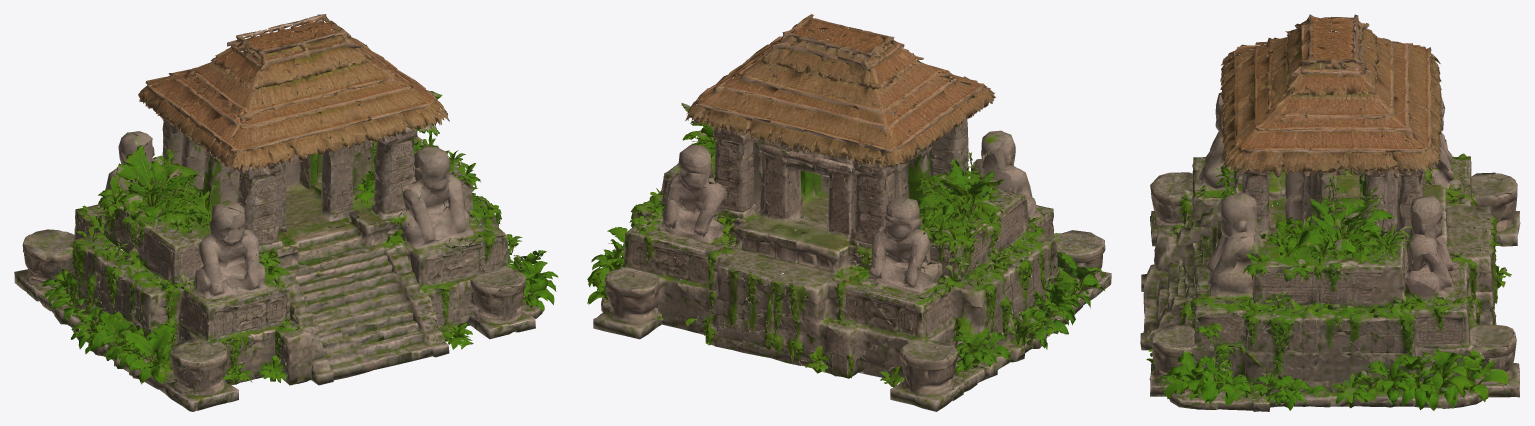
File: templo.glb
3 views of the same model, side by side, from view 1: azimuth 30°, elevation 25°; view 2: azimuth 150°, elevation 25°; view 3: azimuth 270°, elevation 25° (orthographic). The views are drawn at different scales.
Parts seen in each view (by area): view 1: Mesh_0; view 2: Mesh_0; view 3: Mesh_0.
Part boxes in pixels (left/top/right/bottom): Mesh_0: left=14, top=14, right=558, bottom=411; Mesh_0: left=587, top=14, right=1111, bottom=411; Mesh_0: left=1140, top=14, right=1520, bottom=411.
Size of the model in its own units: 1.89 by 1.17 by 1.43.
Materials: 1 (1 with a texture image).
